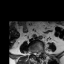CCS_stenosis: (36, 50, 38, 58)
LFS_normal: (40, 48, 42, 56)
LLS_normal: (38, 49, 40, 57)
RFS_normal: (32, 49, 34, 56)
RLS_normal: (34, 49, 36, 57)
